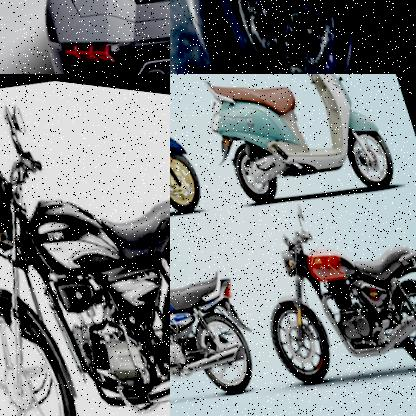bike: (0, 74, 170, 416), (224, 167, 416, 401), (181, 74, 402, 217), (170, 207, 261, 416), (170, 0, 416, 74)
